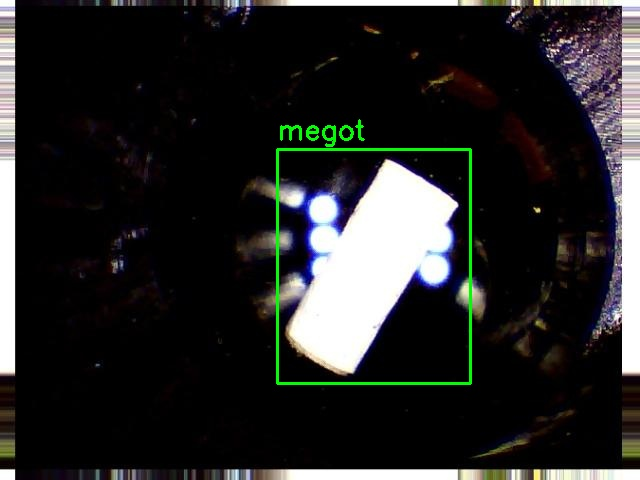megot: (277, 149, 470, 383)
